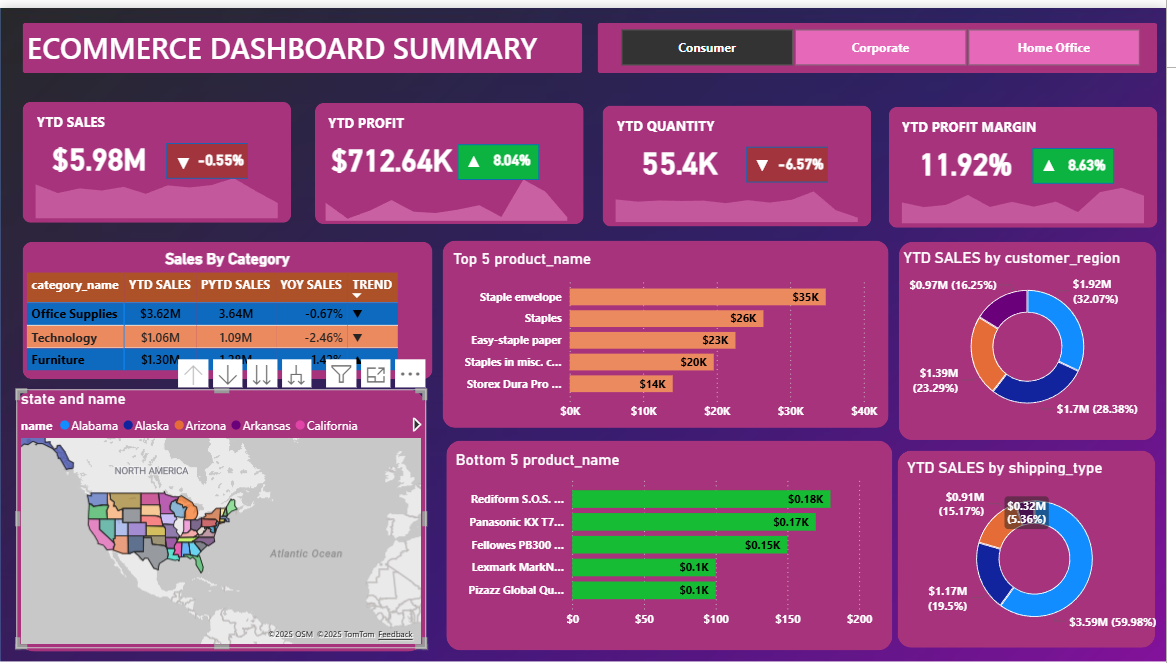

This screenshot's page, from the dashboard's own definition file:
{"tool":"powerbi","page":{"name":"Page 1","canvas":[1280,720],"ordinal":0},"visuals":[{"type":"shape","box":[24.7,16.5,614.8,54.9],"z":0},{"type":"textbox","box":[24.7,16.5,603.8,59],"z":1000},{"type":"shape","box":[655.9,16.5,614.8,54.9],"z":2000},{"type":"shape","box":[24.7,102.9,295,133],"z":3000},{"type":"card","fields":{"Values":["Calendar.YTD SALES"]},"box":[35.7,138.6,146.8,50.8],"z":4000},{"type":"areaChart","fields":{"Category":["Calendar.Month"],"Y":["Sum(ecommerce_data.sales_per_order)"]},"box":[24.7,168.8,295,67.2],"z":5000},{"type":"shape","box":[182.3,148.6,89.7,39.3],"z":6000},{"type":"card","fields":{"Values":["AMeasure.YOY SALES"]},"box":[200.5,148.6,84.1,39.3],"z":7000},{"type":"card","fields":{"Values":["AMeasure.Sales icon"]},"box":[174.1,152.2,54.1,39.5],"z":8000},{"type":"textbox","box":[35.1,109.4,99.6,39.3],"z":9000},{"type":"shape","box":[345.2,104.3,295,133],"z":10000},{"type":"card","fields":{"Values":["AMeasure.YTD Profit"]},"box":[356.2,140,146.8,50.8],"z":11000},{"type":"areaChart","fields":{"Category":["Calendar.Month"],"Y":["Sum(ecommerce_data.profit_per_order)"]},"box":[343,171.4,294.5,67.3],"z":12000},{"type":"shape","box":[502.8,150,89.7,39.3],"z":13000},{"type":"card","fields":{"Values":["AMeasure.YOY PROFIT"]},"box":[520.5,148.4,84.5,39.8],"z":14000},{"type":"card","fields":{"Values":["AMeasure.PROFIT icon"]},"box":[493,151.4,54.7,39.3],"z":15000},{"type":"textbox","box":[355.6,110.7,99.6,39.3],"z":16000},{"type":"shape","box":[661.7,106.4,295,133],"z":17000},{"type":"card","fields":{"Values":["A3Measure.YTD QUANTITY"]},"box":[672.6,142,146.8,50.8],"z":18000},{"type":"areaChart","fields":{"Category":["Calendar.Month"],"Y":["Sum(ecommerce_data.order_quantity)"]},"box":[661.7,172.2,295,67.2],"z":19000},{"type":"shape","box":[819.2,152.1,89.7,39.3],"z":20000},{"type":"card","fields":{"Values":["A3Measure.YOY QUANTITY"]},"box":[837.5,152.1,84.1,39.3],"z":21000},{"type":"card","fields":{"Values":["A3Measure.QUANTITY ICON"]},"box":[809.5,154.4,54.3,39.8],"z":22000},{"type":"textbox","box":[672,113.4,147.2,38.6],"z":23000},{"type":"shape","box":[975.7,108.6,295,133],"z":24000},{"type":"card","fields":{"Values":["A4Measure.YTD PROFIT MARGIN"]},"box":[986.7,144.3,146.8,50.8],"z":25000},{"type":"areaChart","fields":{"Category":["Calendar.Month"],"Y":["ecommerce_data.PROFIT MARGIN"]},"box":[975.7,174.5,295,67.2],"z":26000},{"type":"shape","box":[1133.3,154.4,89.7,39.3],"z":27000},{"type":"card","fields":{"Values":["A4Measure.YOY PROFIT MARGIN"]},"box":[1151.5,154.4,84.1,39.3],"z":28000},{"type":"card","fields":{"Values":["A4Measure.PROFIT MARGIN icon"]},"box":[1123.2,154.4,55.5,39.8],"z":29000},{"type":"textbox","box":[985.7,114.6,165.3,39.8],"z":30000},{"type":"shape","box":[24.7,256.6,450.1,150.9],"z":31000},{"type":"pivotTable","title":"Sales By Category","fields":{"Rows":["ecommerce_data.category_name"],"Values":["A1Measure.YTD SALES","A1Measure.PYTD SALES","A1Measure.YOY SALES","A1Measure.Sales icon"]},"box":[24.1,265.4,450,141.2],"z":32000},{"type":"shape","box":[17.8,418.5,450.1,288.2],"z":33000},{"type":"azureMap","fields":{"Category":["us_state_long_lat_codes.state","us_state_long_lat_codes.longitude","us_state_long_lat_codes.latitude"],"Series":["us_state_long_lat_codes.name"]},"box":[17.8,418.5,450.1,284],"z":34000},{"type":"shape","box":[485.8,255.2,489.9,205.8],"z":35000},{"type":"shape","box":[489.9,474.8,489.9,230.5],"z":36000},{"type":"barChart","title":"Top 5 product_name","fields":{"Category":["ecommerce_data.product_name"],"Y":["A1Measure.YTD SALES"]},"box":[492.6,264.8,480.3,196.2],"z":37000},{"type":"barChart","title":"Bottom 5 product_name","fields":{"Category":["ecommerce_data.product_name"],"Y":["A1Measure.YTD SALES"]},"box":[495.4,485.8,480.3,203.1],"z":38000},{"type":"shape","box":[987.3,256.9,282.9,218],"z":39000},{"type":"donutChart","fields":{"Category":["ecommerce_data.customer_region"],"Y":["A1Measure.YTD SALES"]},"box":[987.3,264.1,282.9,196.3],"z":40000},{"type":"shape","box":[985.8,486.4,282.9,216.5],"z":41000},{"type":"donutChart","fields":{"Category":["ecommerce_data.shipping_type"],"Y":["A1Measure.YTD SALES"]},"box":[990.2,493.6,290.1,200.6],"z":42000},{"type":"slicer","fields":{"Values":["ecommerce_data.customer_segment"]},"box":[655.3,15.9,619.2,53.4],"z":43000}]}

Visuals, with their boxes in screenshot pixels (x1, y1, x2, y2), scaled from the page's 1280x720 canvas onto the 1176x663 screenshot:
shape: {"left": 23, "top": 15, "right": 588, "bottom": 66}
textbox: {"left": 23, "top": 15, "right": 577, "bottom": 70}
shape: {"left": 603, "top": 15, "right": 1167, "bottom": 66}
shape: {"left": 23, "top": 95, "right": 294, "bottom": 217}
card - Calendar.YTD SALES: {"left": 33, "top": 128, "right": 168, "bottom": 174}
areaChart - Calendar.Month x Sum(ecommerce_data.sales_per_order): {"left": 23, "top": 155, "right": 294, "bottom": 217}
shape: {"left": 167, "top": 137, "right": 250, "bottom": 173}
card - AMeasure.YOY SALES: {"left": 184, "top": 137, "right": 261, "bottom": 173}
card - AMeasure.Sales icon: {"left": 160, "top": 140, "right": 210, "bottom": 177}
textbox: {"left": 32, "top": 101, "right": 124, "bottom": 137}
shape: {"left": 317, "top": 96, "right": 588, "bottom": 219}
card - AMeasure.YTD Profit: {"left": 327, "top": 129, "right": 462, "bottom": 176}
areaChart - Calendar.Month x Sum(ecommerce_data.profit_per_order): {"left": 315, "top": 158, "right": 586, "bottom": 220}
shape: {"left": 462, "top": 138, "right": 544, "bottom": 174}
card - AMeasure.YOY PROFIT: {"left": 478, "top": 137, "right": 556, "bottom": 173}
card - AMeasure.PROFIT icon: {"left": 453, "top": 139, "right": 503, "bottom": 176}
textbox: {"left": 327, "top": 102, "right": 418, "bottom": 138}
shape: {"left": 608, "top": 98, "right": 879, "bottom": 220}
card - A3Measure.YTD QUANTITY: {"left": 618, "top": 131, "right": 753, "bottom": 178}
areaChart - Calendar.Month x Sum(ecommerce_data.order_quantity): {"left": 608, "top": 159, "right": 879, "bottom": 220}
shape: {"left": 753, "top": 140, "right": 835, "bottom": 176}
card - A3Measure.YOY QUANTITY: {"left": 769, "top": 140, "right": 847, "bottom": 176}
card - A3Measure.QUANTITY ICON: {"left": 744, "top": 142, "right": 794, "bottom": 179}
textbox: {"left": 617, "top": 104, "right": 753, "bottom": 140}
shape: {"left": 896, "top": 100, "right": 1167, "bottom": 222}
card - A4Measure.YTD PROFIT MARGIN: {"left": 907, "top": 133, "right": 1041, "bottom": 180}
areaChart - Calendar.Month x ecommerce_data.PROFIT MARGIN: {"left": 896, "top": 161, "right": 1167, "bottom": 223}
shape: {"left": 1041, "top": 142, "right": 1124, "bottom": 178}
card - A4Measure.YOY PROFIT MARGIN: {"left": 1058, "top": 142, "right": 1135, "bottom": 178}
card - A4Measure.PROFIT MARGIN icon: {"left": 1032, "top": 142, "right": 1083, "bottom": 179}
textbox: {"left": 906, "top": 106, "right": 1057, "bottom": 142}
shape: {"left": 23, "top": 236, "right": 436, "bottom": 375}
"Sales By Category" pivotTable: {"left": 22, "top": 244, "right": 436, "bottom": 374}
shape: {"left": 16, "top": 385, "right": 430, "bottom": 651}
azureMap - us_state_long_lat_codes.state x us_state_long_lat_codes.longitude: {"left": 16, "top": 385, "right": 430, "bottom": 647}
shape: {"left": 446, "top": 235, "right": 896, "bottom": 425}
shape: {"left": 450, "top": 437, "right": 900, "bottom": 649}
"Top 5 product_name" barChart: {"left": 453, "top": 244, "right": 894, "bottom": 425}
"Bottom 5 product_name" barChart: {"left": 455, "top": 447, "right": 896, "bottom": 634}
shape: {"left": 907, "top": 237, "right": 1167, "bottom": 437}
donutChart - ecommerce_data.customer_region x A1Measure.YTD SALES: {"left": 907, "top": 243, "right": 1167, "bottom": 424}
shape: {"left": 906, "top": 448, "right": 1166, "bottom": 647}
donutChart - ecommerce_data.shipping_type x A1Measure.YTD SALES: {"left": 910, "top": 455, "right": 1175, "bottom": 639}
slicer - ecommerce_data.customer_segment: {"left": 602, "top": 15, "right": 1171, "bottom": 64}
